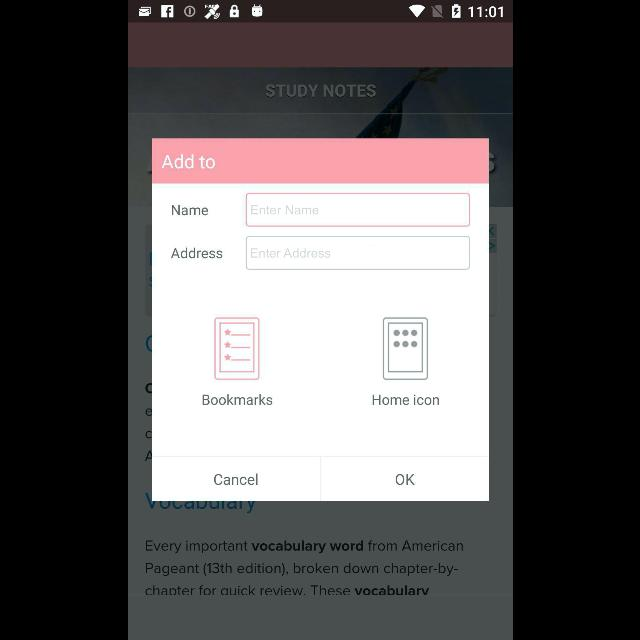image: (382, 317, 428, 381), (214, 318, 258, 380)
input: (245, 236, 470, 270), (245, 194, 470, 226)
panel: (152, 139, 488, 501)
text: (144, 540, 462, 594), (264, 84, 376, 98), (202, 394, 272, 406), (250, 248, 330, 258), (162, 154, 214, 168), (250, 205, 318, 215), (372, 395, 438, 405), (170, 248, 222, 258), (171, 204, 207, 216)
textbutton: (320, 457, 488, 501), (151, 457, 319, 501)
uppertaskbar: (128, 1, 512, 23)
